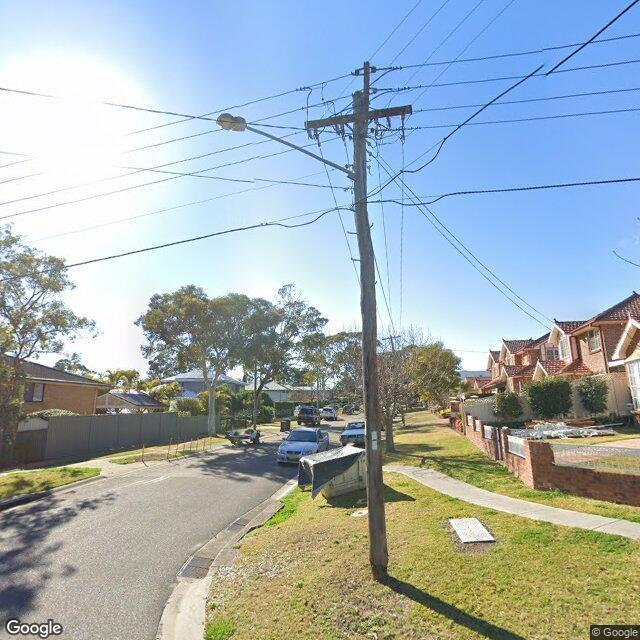crossarm: (304, 104, 413, 130), (382, 334, 401, 340)
streetlight: (215, 111, 356, 180)
timber-pole: (351, 91, 390, 581), (389, 334, 405, 424), (314, 368, 320, 423), (253, 363, 258, 428)
